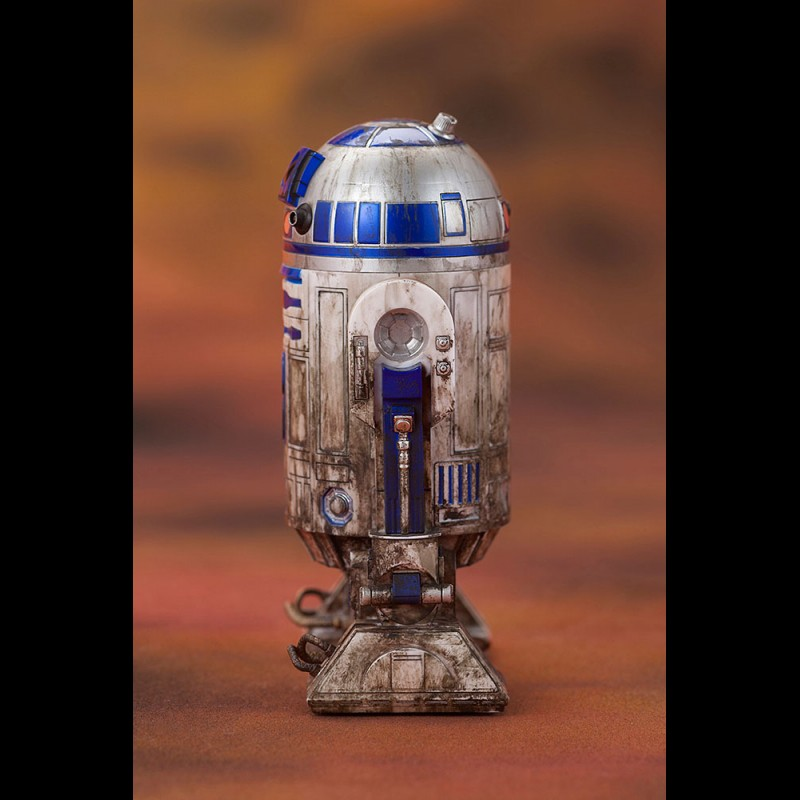r2d2: (277, 111, 512, 715)
